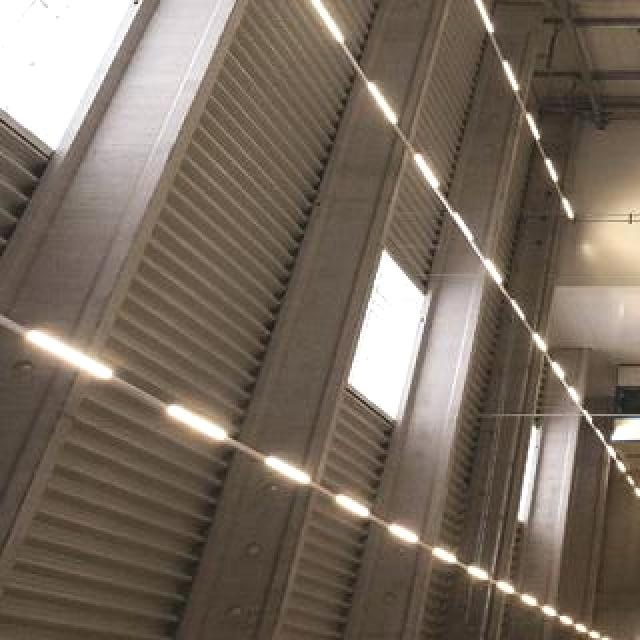fluorescent tube: (18, 314, 131, 394), (160, 397, 240, 459), (255, 449, 325, 489), (298, 0, 350, 48), (362, 79, 404, 128), (404, 149, 446, 191), (333, 480, 375, 516), (384, 518, 424, 555), (449, 205, 479, 254), (422, 547, 469, 569), (480, 249, 505, 288), (472, 0, 498, 36), (497, 59, 521, 96), (524, 105, 543, 143), (507, 296, 527, 326), (547, 358, 569, 385), (543, 156, 562, 184), (529, 329, 551, 353), (561, 195, 578, 225), (554, 610, 574, 634), (460, 569, 492, 583), (517, 591, 540, 609), (491, 579, 519, 593), (565, 384, 585, 403), (601, 443, 625, 456), (571, 619, 587, 637), (583, 406, 596, 426), (540, 604, 558, 618), (595, 421, 607, 442), (615, 458, 630, 474)
